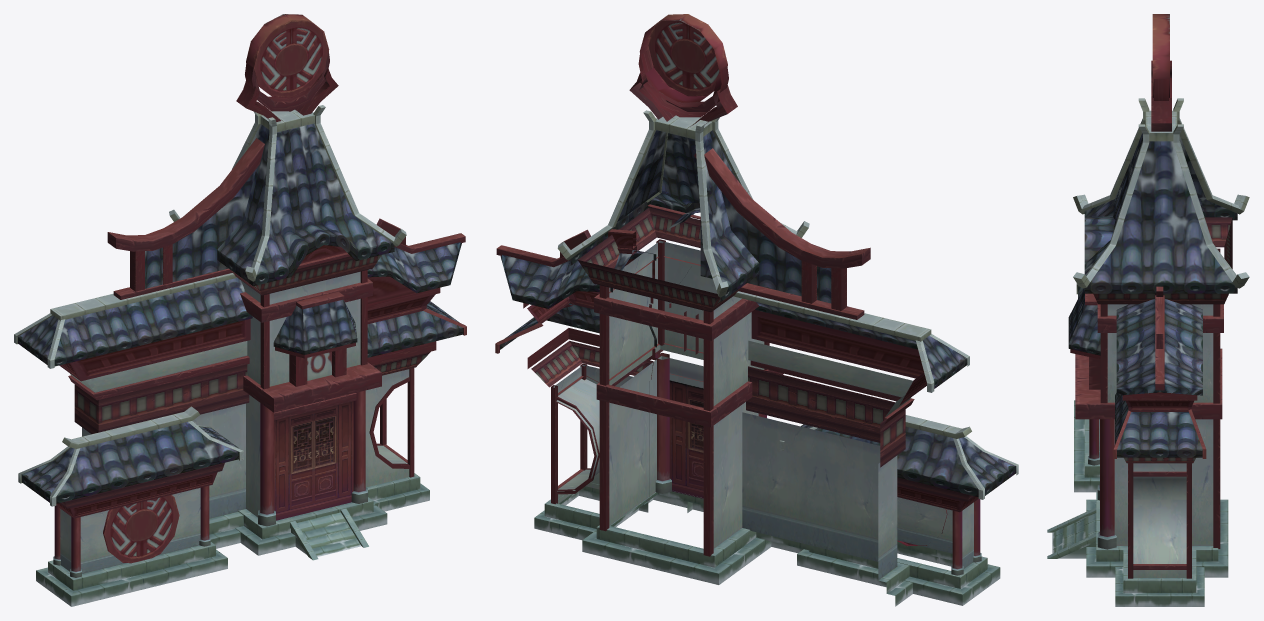
The picture shows the model from 3 angles, left to right: view 1: azimuth 30°, elevation 25°; view 2: azimuth 150°, elevation 25°; view 3: azimuth 270°, elevation 25°; orthographic projection. The views are drawn at different scales.
Visible parts, largest first — view 1: MB0002_07_03; view 2: MB0002_07_03; view 3: MB0002_07_03.
Boxes of the visible parts, <box> form: MB0002_07_03: <box>14,14,466,606</box>; MB0002_07_03: <box>495,14,1018,606</box>; MB0002_07_03: <box>1047,14,1249,606</box>.
Size of the model in its own units: 19.12 by 20.15 by 7.02.
